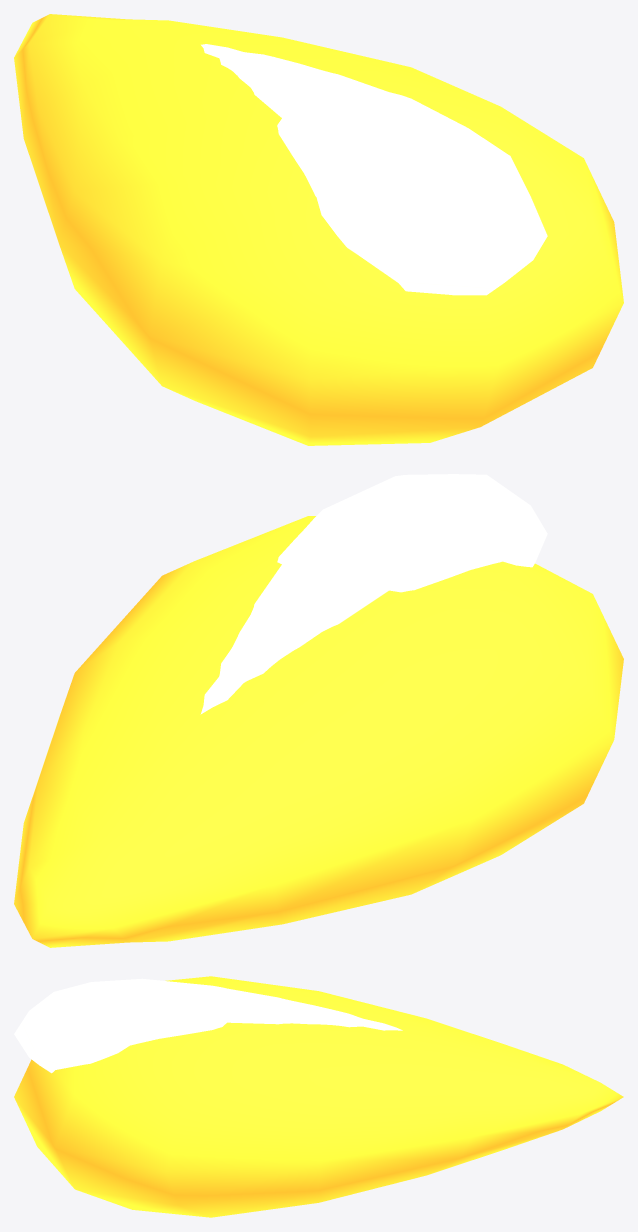
File: weapon_effects_a_muzzle_drop.glb
The picture shows the model from 3 angles, top to bottom: view 1: azimuth 30°, elevation 25°; view 2: azimuth 150°, elevation 25°; view 3: azimuth 270°, elevation 25°; orthographic projection. The views are drawn at different scales.
Parts seen in each view (by area): view 1: Shape; view 2: Shape; view 3: Shape.
Boxes of the visible parts, box(x1,y1,x2,y2) form: Shape: box(14, 14, 623, 445); Shape: box(14, 474, 623, 947); Shape: box(14, 976, 623, 1217).
Size of the model in its own units: 0.38 by 0.2419 by 0.66.
